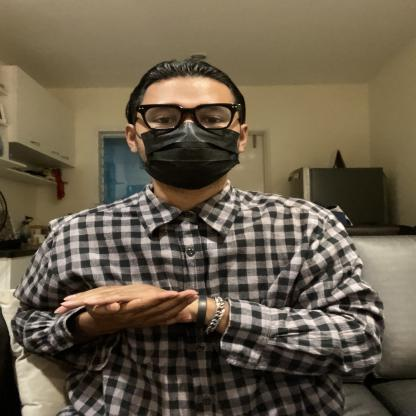Love: (23, 255, 288, 349)
